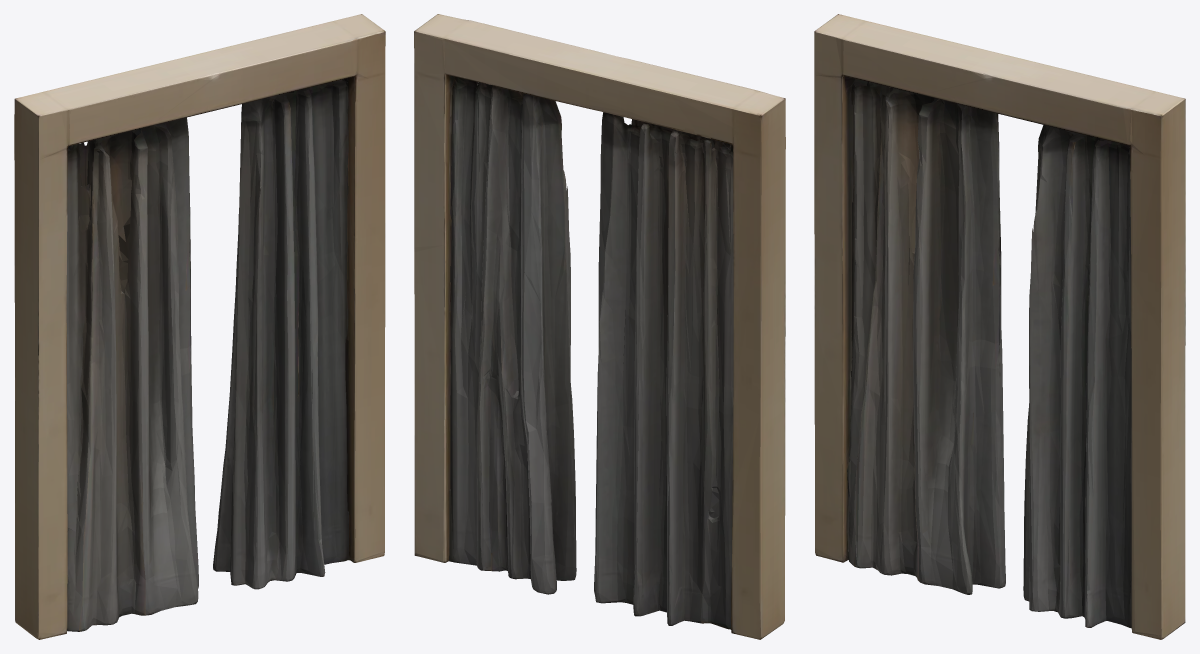
3 views of the same model, side by side, from view 1: azimuth 30°, elevation 25°; view 2: azimuth 150°, elevation 25°; view 3: azimuth 330°, elevation 25° (orthographic).
Parts seen in each view (by area): view 1: geometry_0; view 2: geometry_0; view 3: geometry_0.
Part boxes in pixels (x1,y1,x2,y2): geometry_0: (14, 14, 385, 639); geometry_0: (414, 14, 785, 639); geometry_0: (814, 14, 1185, 639).
Bounding box in the file's own units: 0.6921 × 1 × 0.1342.
Materials: 1 (1 with a texture image).
